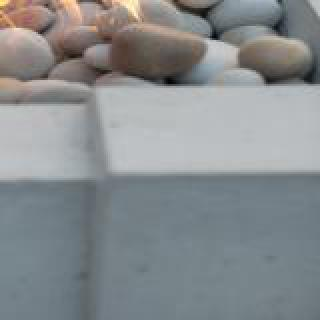fire: (0, 0, 120, 40)
